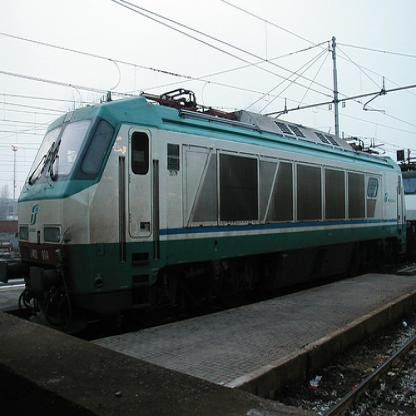train: (18, 88, 407, 335)
